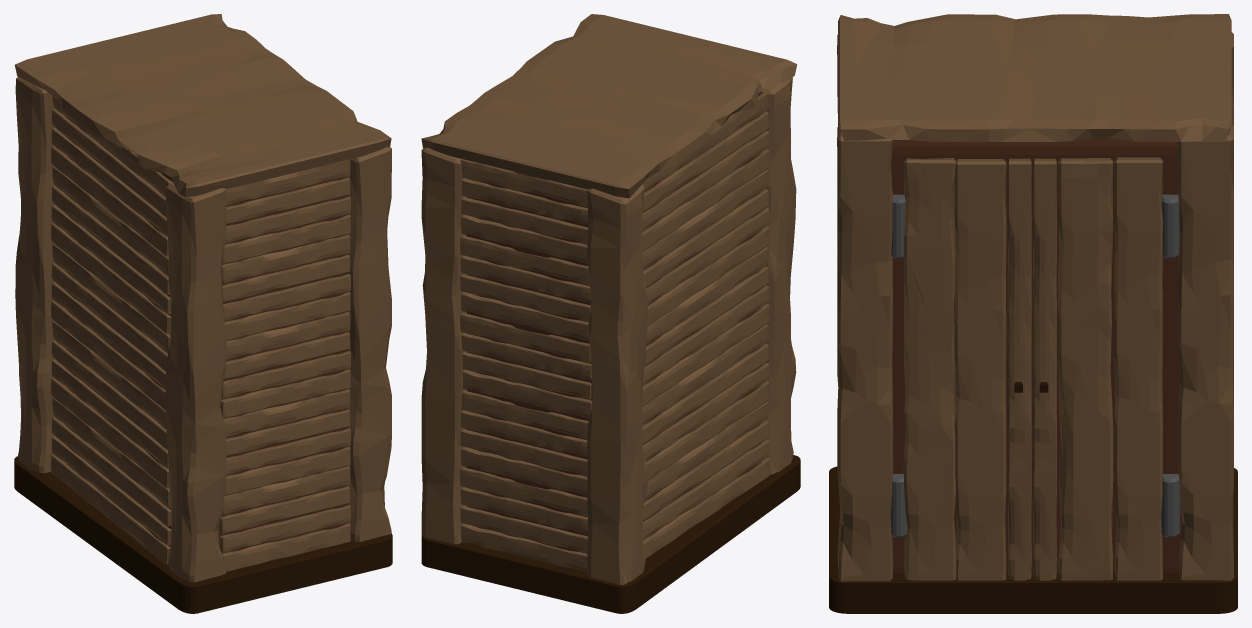
Rendered from Closet.fbx.
The picture shows the model from 3 angles, left to right: view 1: azimuth 30°, elevation 25°; view 2: azimuth 150°, elevation 25°; view 3: azimuth 270°, elevation 25°; orthographic projection. The views are drawn at different scales.
Parts seen in each view (by area): view 1: plank3.028, plank3.019, plank3.020, Cube.037, plank3.018, Cube.033, plank3.061, plank3.077, plank3.059, plank3.053, plank3.085, plank3.071 (+34 smaller); view 2: plank3.028, plank3.018, plank3.022, Cube.037, plank3.019, Cube.033, plank3.081, plank3.073, plank3.089, plank3.085, plank3.077, plank3.086 (+34 smaller); view 3: plank3.028, plank3.020, plank3.022, plank3.024, plank3.025, plank3.021, plank3.026, Cube.033, Cube.037, plank3.023, plank3.027, plank3.030 (+3 smaller).
Boxes of the visible parts, x1,y1,x2,y2 form: plank3.028: [15, 14, 391, 197]; plank3.019: [165, 182, 226, 582]; plank3.020: [346, 147, 391, 541]; Cube.037: [14, 456, 392, 613]; plank3.018: [15, 76, 55, 473]; Cube.033: [55, 116, 347, 553]; plank3.061: [220, 369, 350, 418]; plank3.077: [51, 223, 171, 333]; plank3.059: [221, 234, 350, 283]; plank3.053: [222, 214, 350, 264]; plank3.085: [51, 377, 169, 488]; plank3.071: [221, 466, 350, 514]; plank3.028: [421, 14, 797, 198]; plank3.018: [587, 184, 648, 584]; plank3.022: [421, 147, 467, 544]; Cube.037: [421, 455, 800, 613]; plank3.019: [756, 78, 796, 474]; Cube.033: [466, 117, 756, 553]; plank3.081: [642, 303, 769, 407]; plank3.073: [642, 148, 769, 251]; plank3.089: [643, 457, 769, 559]; plank3.085: [646, 380, 769, 480]; plank3.077: [647, 226, 769, 325]; plank3.086: [642, 343, 768, 444]; plank3.028: [838, 14, 1231, 141]; plank3.020: [837, 126, 892, 581]; plank3.022: [1178, 124, 1233, 581]; plank3.024: [1057, 158, 1113, 580]; plank3.025: [954, 159, 1006, 580]; plank3.021: [903, 157, 956, 580]; plank3.026: [1114, 157, 1162, 580]; Cube.033: [891, 138, 1182, 572]; Cube.037: [829, 466, 1237, 613]; plank3.023: [1007, 158, 1031, 580]; plank3.027: [1033, 158, 1056, 580]; plank3.030: [1161, 474, 1180, 537].
Size of the model in its own units: 247 by 468 by 356.
